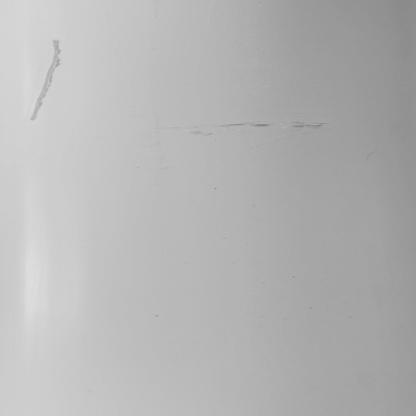sunshang: (166, 116, 325, 136), (31, 39, 63, 119)
